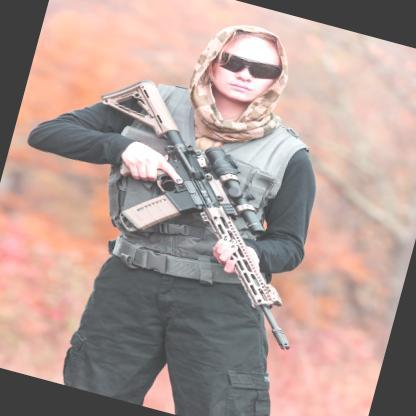rifle: (50, 59, 348, 356)
